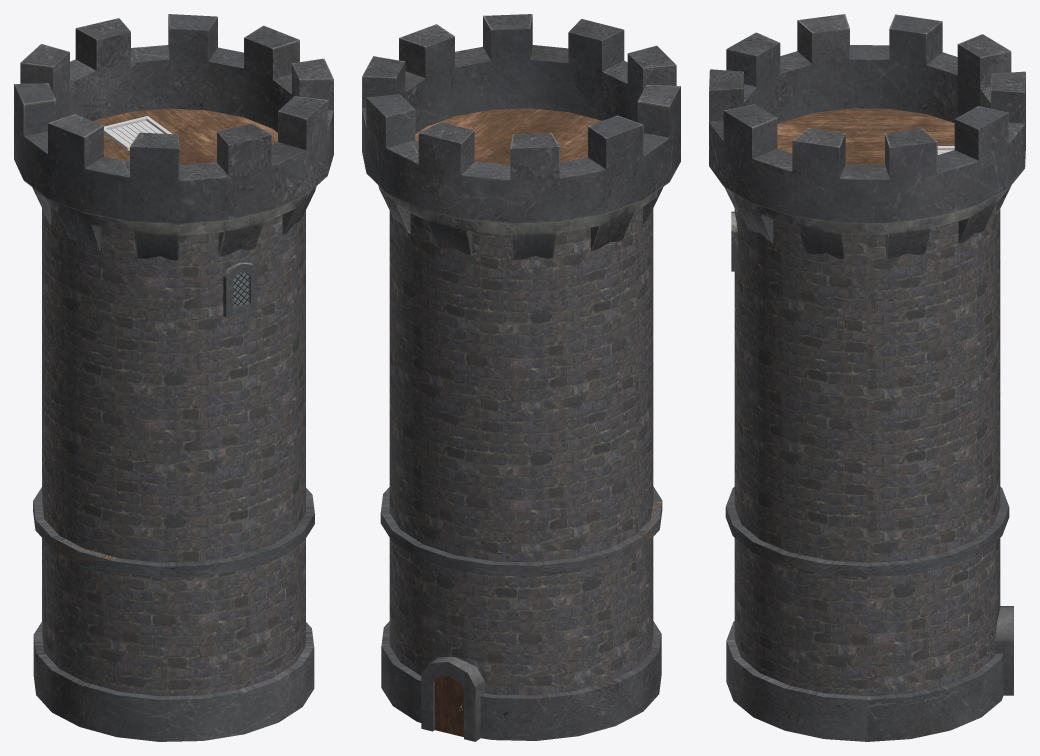
File: wall_round_tower_2.fbx
3 views of the same model, side by side, from view 1: azimuth 30°, elevation 25°; view 2: azimuth 150°, elevation 25°; view 3: azimuth 270°, elevation 25° (orthographic).
Visible parts, largest first — view 1: Muralla3.084; view 2: Muralla3.084; view 3: Muralla3.084.
Boxes of the visible parts, <box> form: Muralla3.084: <box>14,14,333,741</box>; Muralla3.084: <box>362,14,680,741</box>; Muralla3.084: <box>709,14,1025,741</box>.
Bounding box in the file's own units: 180 × 376 × 180.
5 materials, 4 textured.
